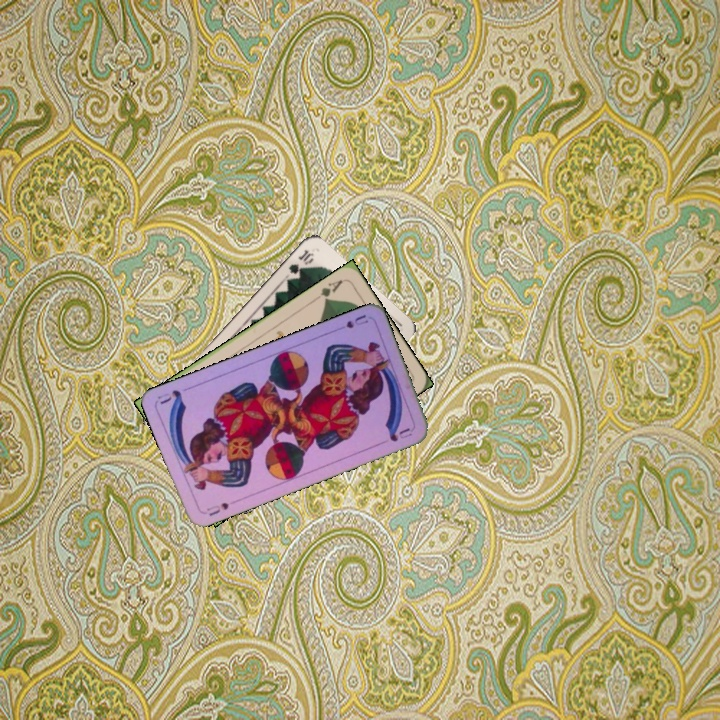G10: (285, 245, 317, 277)
GA: (310, 275, 345, 305)
SU: (331, 310, 371, 334), (202, 496, 239, 519)
